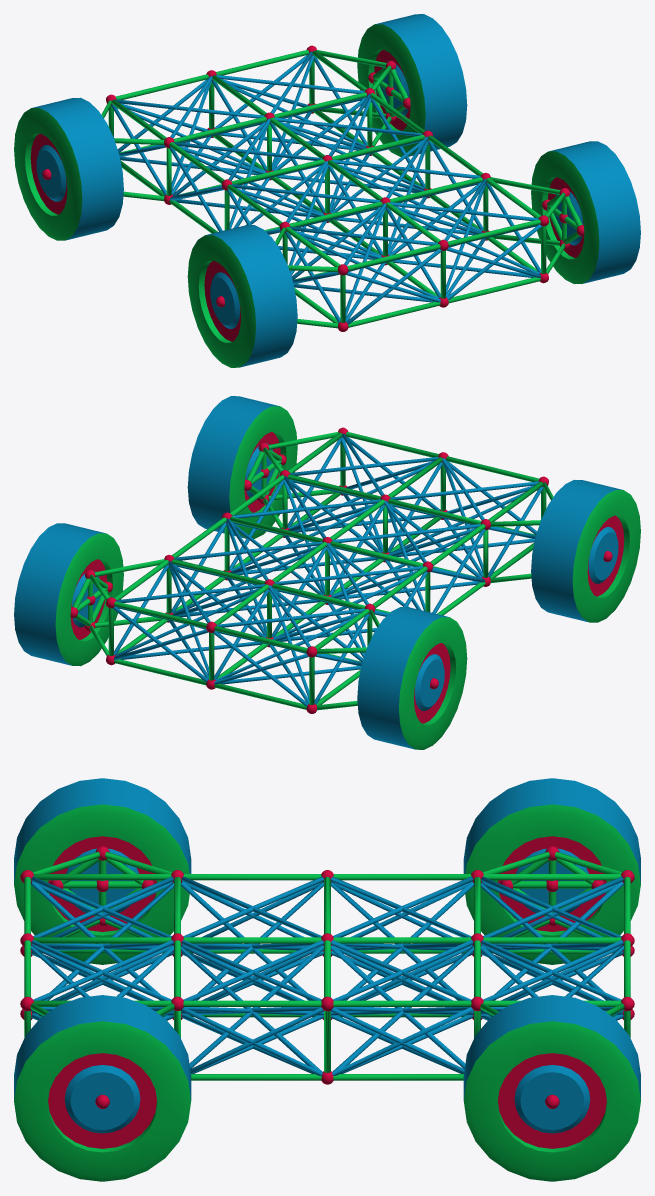
The model's file is example_car.dae.
3 renders of one model, top to bottom at view 1: azimuth 30°, elevation 25°; view 2: azimuth 150°, elevation 25°; view 3: azimuth 270°, elevation 25°, orthographic. The views are drawn at different scales.
Parts seen in each view (by area): view 1: BeamNG_XBeams, BeamNG_Beams, BeamNG_Wheel_FR, BeamNG_Wheel_RR, BeamNG_Wheel_FL, BeamNG_Wheel_RL, BeamNG_Nodes, BeamNG_Spindle_FL, BeamNG_Upperarm_R, BeamNG_Upperarm_F, BeamNG_Spindle_RL, BeamNG_Lowerarm_F (+1 smaller); view 2: BeamNG_XBeams, BeamNG_Beams, BeamNG_Wheel_RR, BeamNG_Wheel_FR, BeamNG_Wheel_RL, BeamNG_Wheel_FL, BeamNG_Nodes, BeamNG_Spindle_RL, BeamNG_Upperarm_F, BeamNG_Upperarm_R, BeamNG_Spindle_FL, BeamNG_Lowerarm_R (+1 smaller); view 3: BeamNG_XBeams, BeamNG_Wheel_FL, BeamNG_Wheel_RL, BeamNG_Beams, BeamNG_Wheel_FR, BeamNG_Wheel_RR, BeamNG_Nodes, BeamNG_Spindle_FR, BeamNG_Spindle_RR, BeamNG_Upperarm_F, BeamNG_Upperarm_R.
Boxes of the visible parts, x1,y1,x2,y2 form: BeamNG_XBeams: (111, 51, 542, 324); BeamNG_Beams: (108, 50, 546, 327); BeamNG_Wheel_FR: (187, 225, 297, 367); BeamNG_Wheel_RR: (14, 97, 123, 240); BeamNG_Wheel_FL: (531, 141, 640, 284); BeamNG_Wheel_RL: (357, 14, 467, 156); BeamNG_Nodes: (106, 45, 548, 331); BeamNG_Spindle_FL: (542, 195, 584, 244); BeamNG_Upperarm_R: (101, 50, 396, 144); BeamNG_Upperarm_F: (275, 177, 569, 272); BeamNG_Spindle_RL: (368, 67, 410, 116); BeamNG_Lowerarm_F: (297, 234, 570, 328); BeamNG_XBeams: (112, 433, 543, 706); BeamNG_Beams: (108, 432, 546, 709); BeamNG_Wheel_RR: (357, 607, 467, 749); BeamNG_Wheel_FR: (531, 479, 640, 622); BeamNG_Wheel_RL: (14, 523, 123, 666); BeamNG_Wheel_FL: (187, 396, 297, 538); BeamNG_Nodes: (106, 427, 548, 713); BeamNG_Spindle_RL: (70, 577, 112, 626); BeamNG_Upperarm_F: (258, 432, 553, 526); BeamNG_Upperarm_R: (85, 559, 379, 654); BeamNG_Spindle_FL: (244, 449, 286, 498); BeamNG_Lowerarm_R: (84, 616, 357, 710); BeamNG_XBeams: (31, 876, 623, 1075); BeamNG_Wheel_FL: (14, 995, 191, 1181); BeamNG_Wheel_RL: (463, 995, 640, 1181); BeamNG_Beams: (24, 874, 630, 1080); BeamNG_Wheel_FR: (14, 778, 191, 964); BeamNG_Wheel_RR: (463, 778, 640, 964); BeamNG_Nodes: (20, 870, 634, 1084); BeamNG_Spindle_FR: (50, 858, 154, 916); BeamNG_Spindle_RR: (500, 858, 604, 916); BeamNG_Upperarm_F: (30, 846, 174, 1015); BeamNG_Upperarm_R: (480, 846, 624, 1015).
Bounding box in the file's own units: 3.94 × 4.18 × 1.18.
